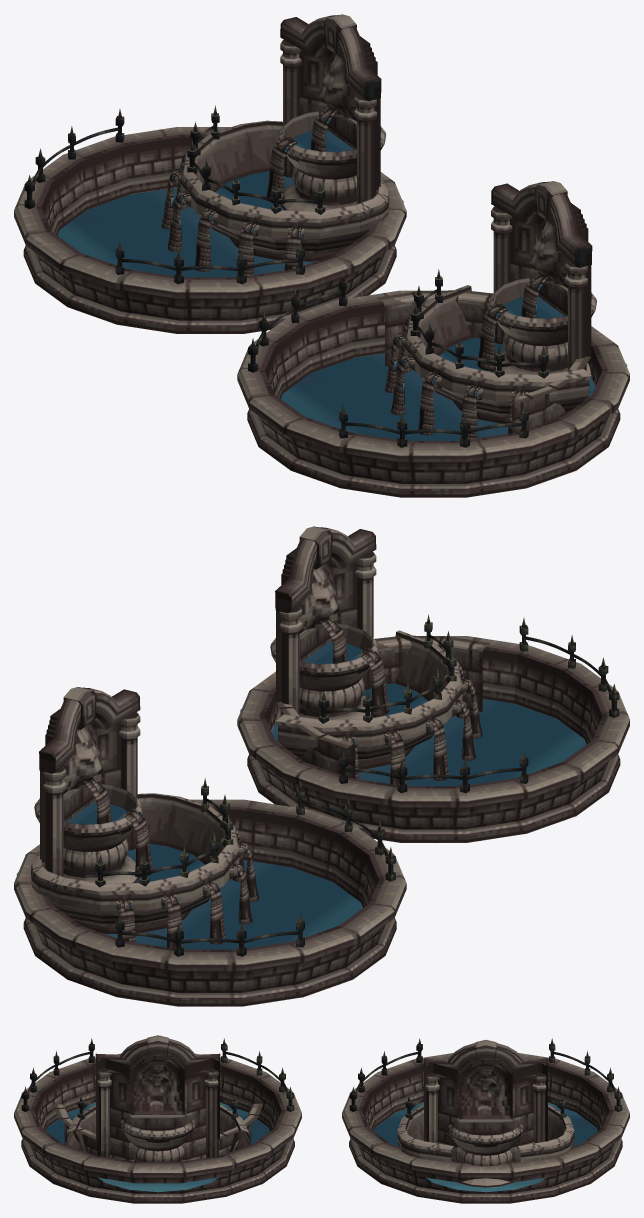
File: EnvObjMD_Fountain_A.FBX
3 renders of one model, top to bottom at view 1: azimuth 30°, elevation 25°; view 2: azimuth 150°, elevation 25°; view 3: azimuth 270°, elevation 25°, orthographic. The views are drawn at different scales.
Parts seen in each view (by area): view 1: EnvObjMD_Fountain_A, EnvObjMD_Fountain_A_B; view 2: EnvObjMD_Fountain_A_B, EnvObjMD_Fountain_A; view 3: EnvObjMD_Fountain_A, EnvObjMD_Fountain_A_B.
Boxes of the visible parts, <box> form: EnvObjMD_Fountain_A: <box>237,181,629,497</box>; EnvObjMD_Fountain_A_B: <box>14,14,406,333</box>; EnvObjMD_Fountain_A_B: <box>14,687,406,1006</box>; EnvObjMD_Fountain_A: <box>237,526,629,842</box>; EnvObjMD_Fountain_A: <box>14,1035,301,1203</box>; EnvObjMD_Fountain_A_B: <box>342,1038,629,1203</box>.
Bounding box in the file's own units: 553 × 317 × 1154.
1 material, 1 textured.
